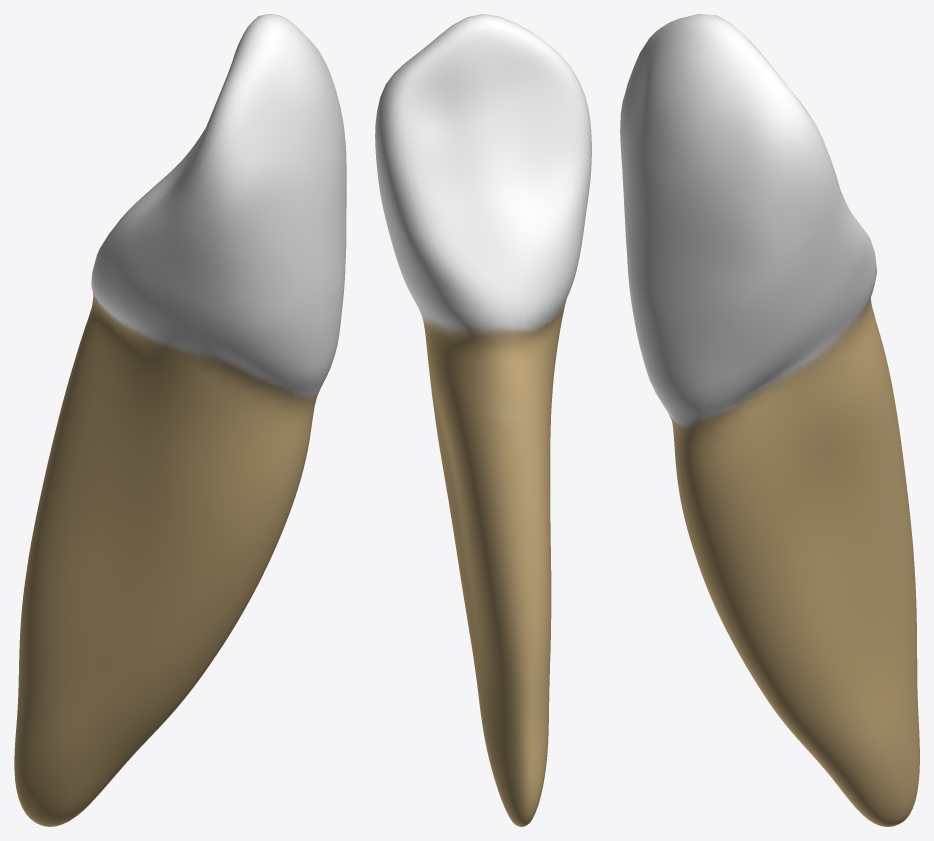
The picture shows the model from 3 angles, left to right: view 1: azimuth 30°, elevation 25°; view 2: azimuth 150°, elevation 25°; view 3: azimuth 270°, elevation 25°; orthographic projection. The views are drawn at different scales.
Parts seen in each view (by area): view 1: outer; view 2: outer; view 3: outer.
Part boxes in pixels (x1,y1,x2,y2): outer: (14,14,346,826); outer: (375,14,591,826); outer: (620,14,919,826).
Size of the model in its own units: 3.09 by 9.93 by 3.09.
Materials: 2 (1 with a texture image).
